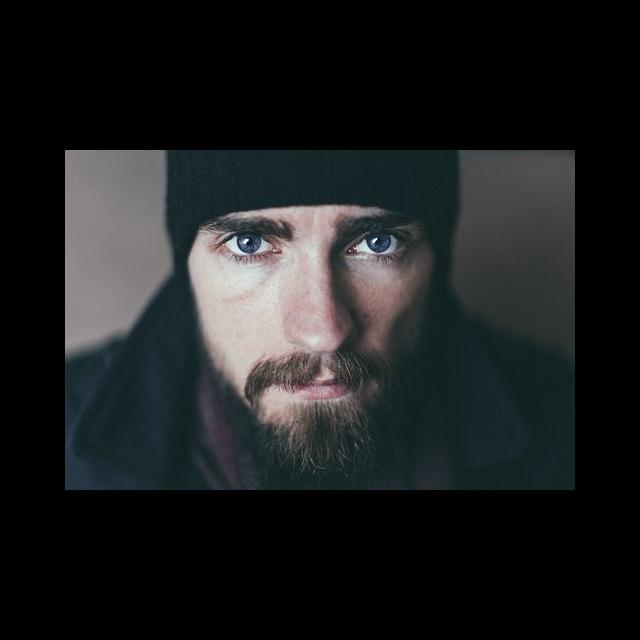male: (158, 152, 463, 454)
